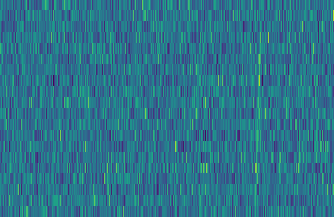signal: (251, 0, 267, 217)
